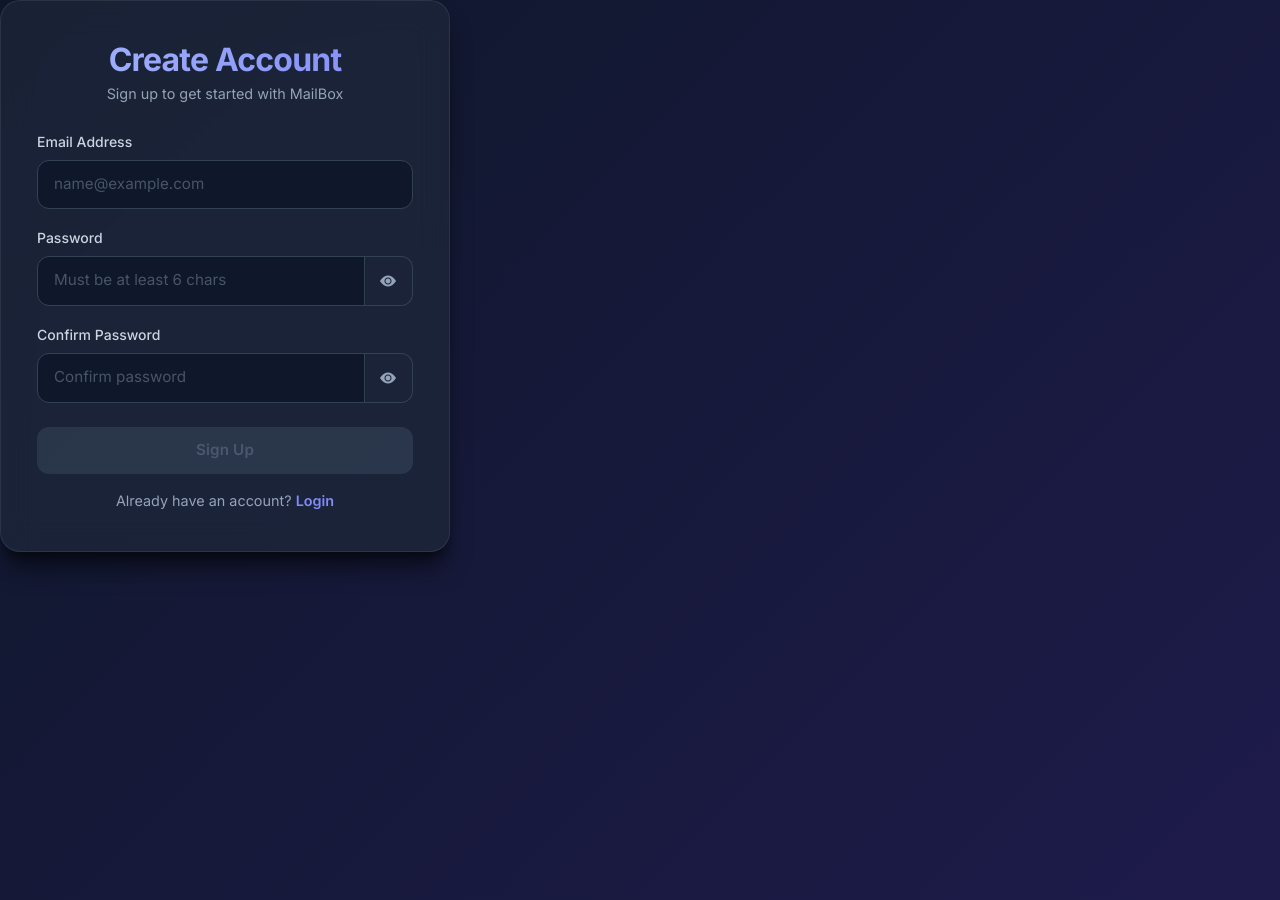
Signup Component Validation and Submission Tests › successfully submits form with valid inputs, shows alert, and logs success to console
Note: Enter valid inputs
In the field with placeholder "name@example.com": (225, 184) [37,160,413,209], type "testuser@example.com"
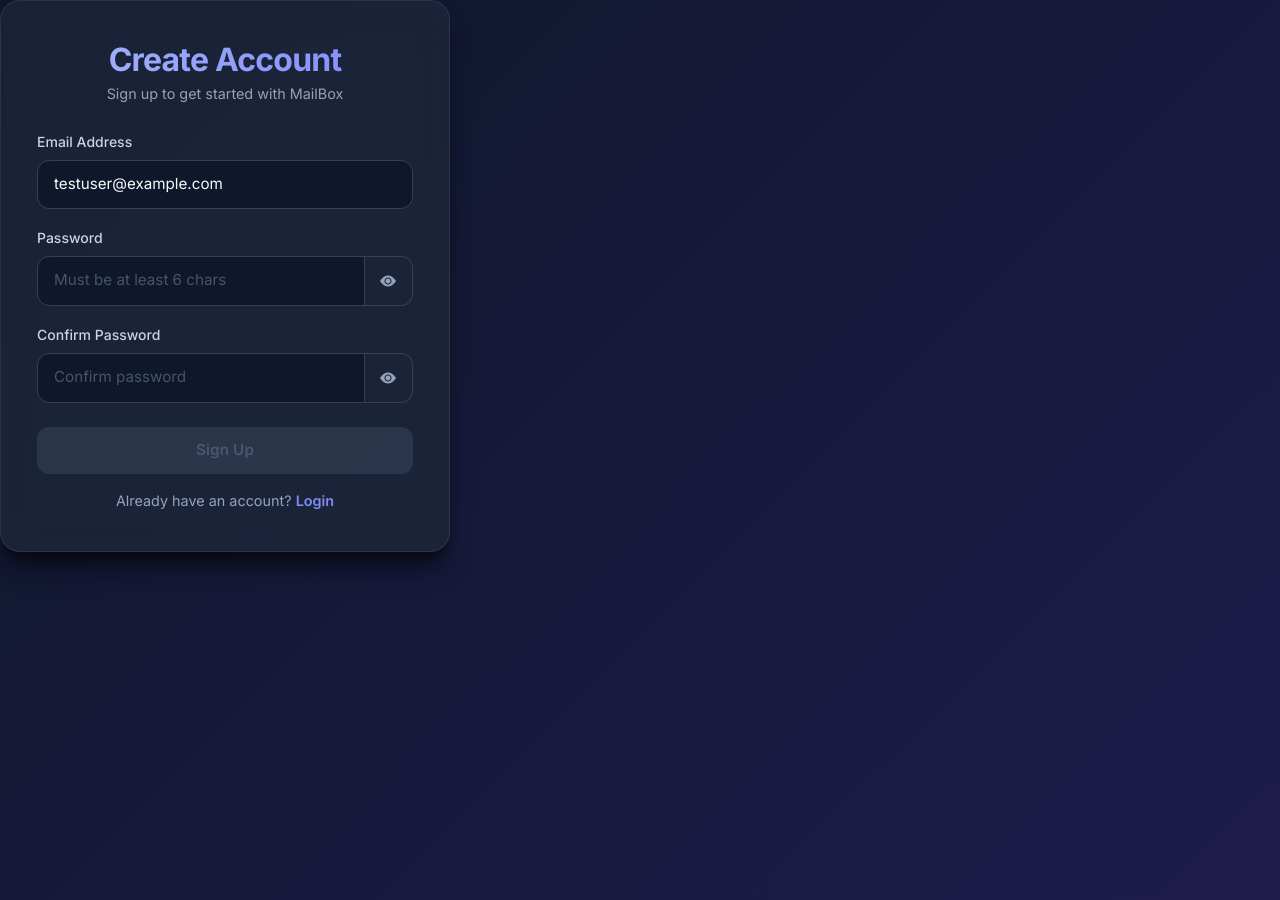
In the password field with placeholder "Must be at least 6 chars": (201, 281) [37,256,365,306], type "Password123"
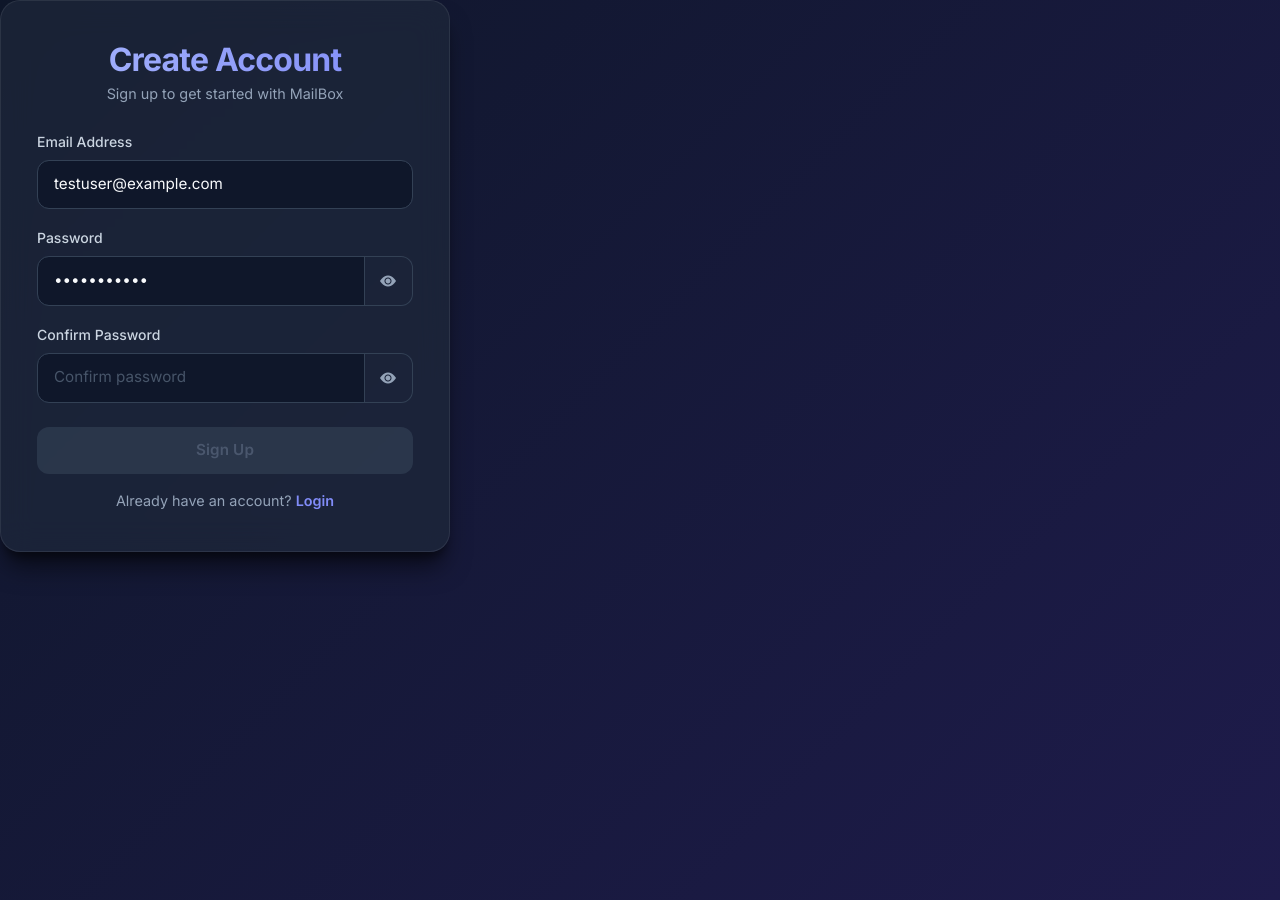
In the password field with placeholder "Confirm Password": (201, 378) [37,353,365,403], type "Password123"
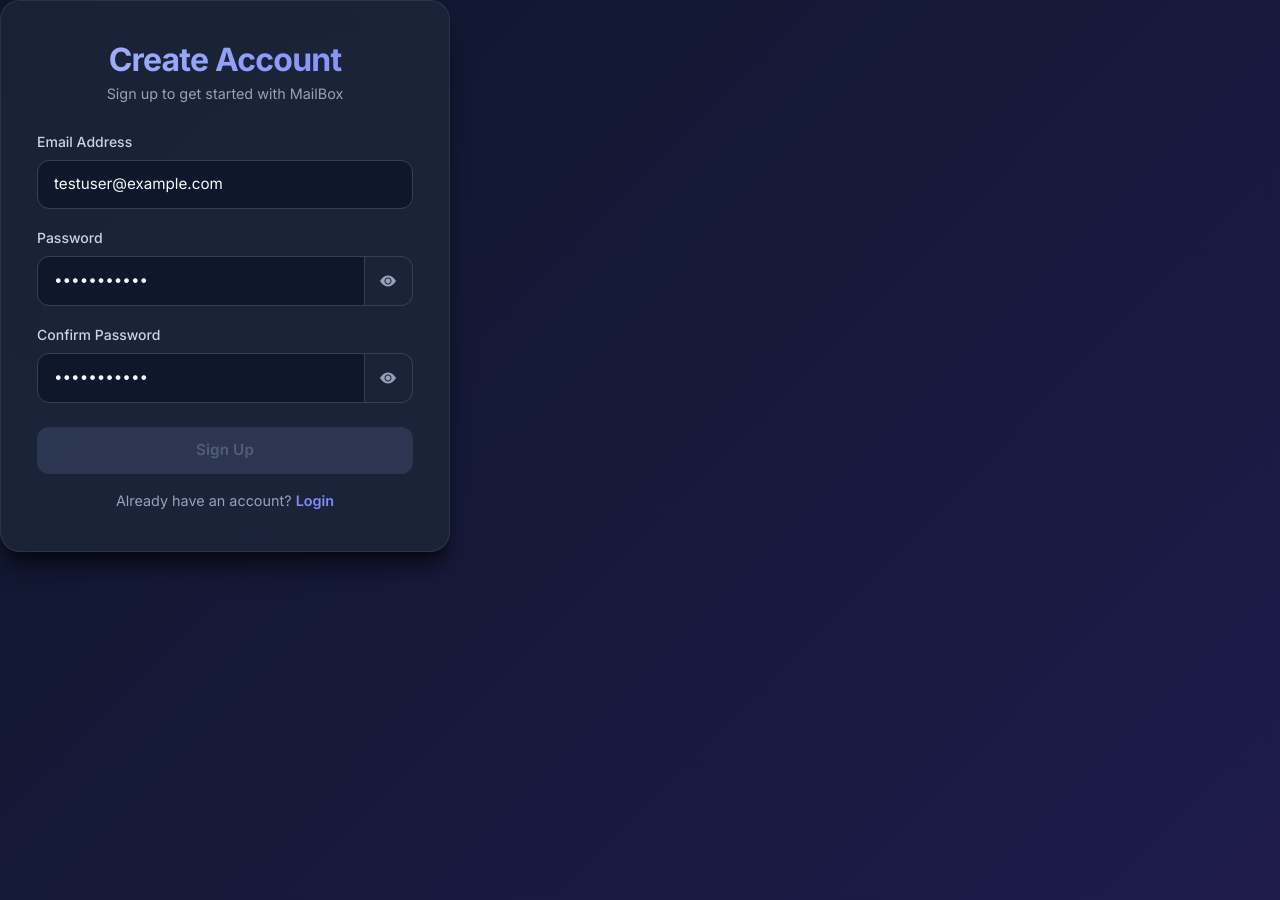
Note: Click submit
Click the button "Sign Up": (225, 450) [37,427,413,474]
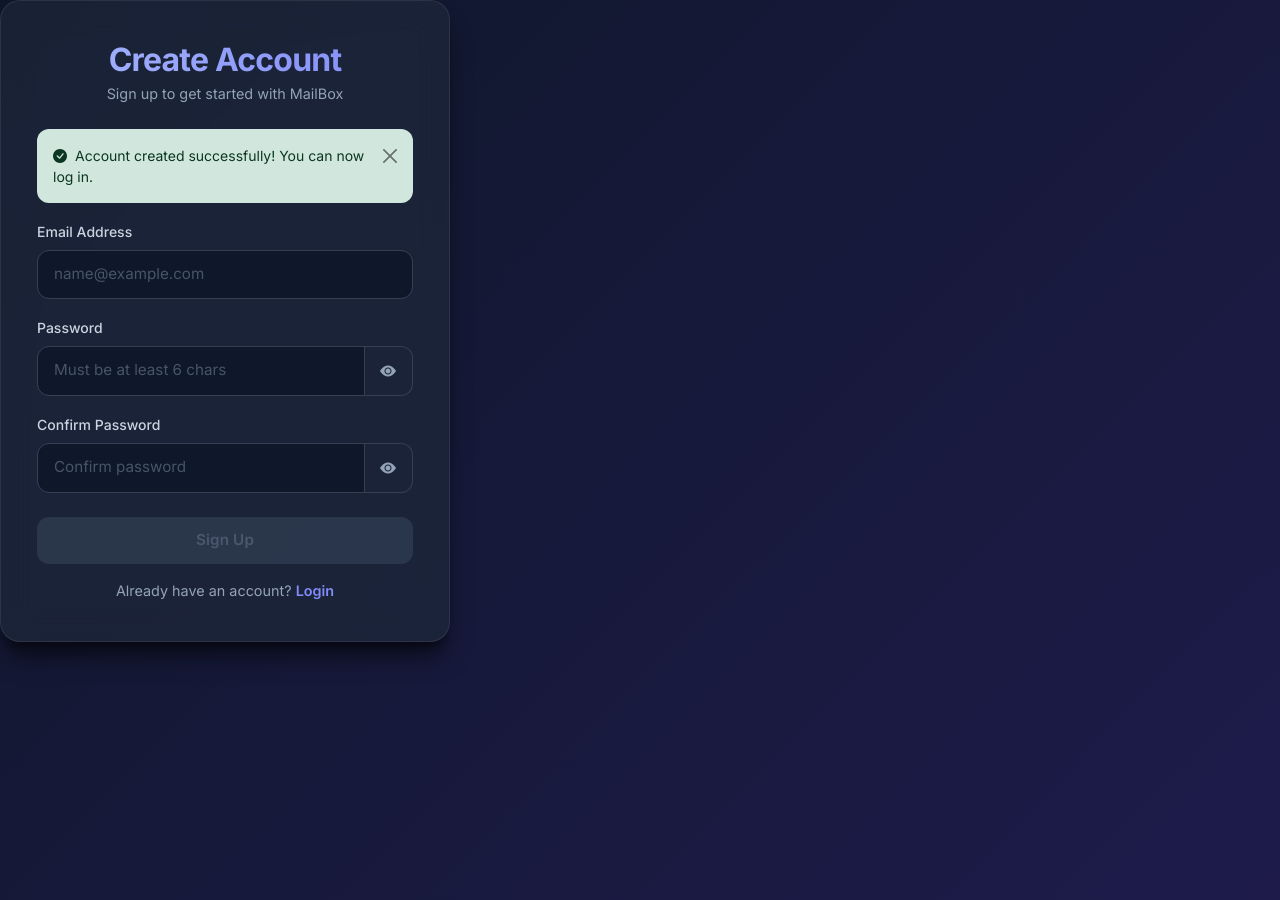
expect the text "Account created successfully! You can now log in." is shown: met, box [37,129,413,203]
